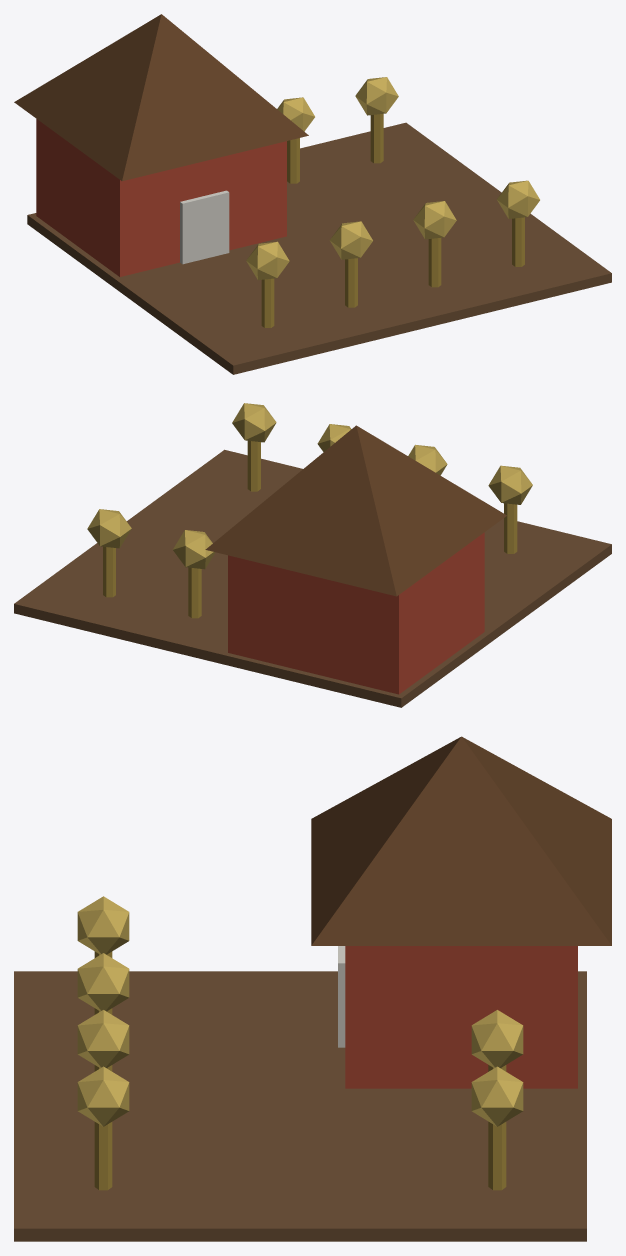
Rendered from farm.glb.
The picture shows the model from 3 angles, top to bottom: view 1: azimuth 30°, elevation 25°; view 2: azimuth 150°, elevation 25°; view 3: azimuth 270°, elevation 25°; orthographic projection. The views are drawn at different scales.
Visible parts, largest first — view 1: farm; view 2: farm; view 3: farm.
Boxes of the visible parts, x1,y1,x2,y2 form: farm: (14,14,611,374); farm: (14,403,611,707); farm: (14,736,611,1241).
Bounding box in the file's own units: 0.344 × 0.19 × 0.334.
